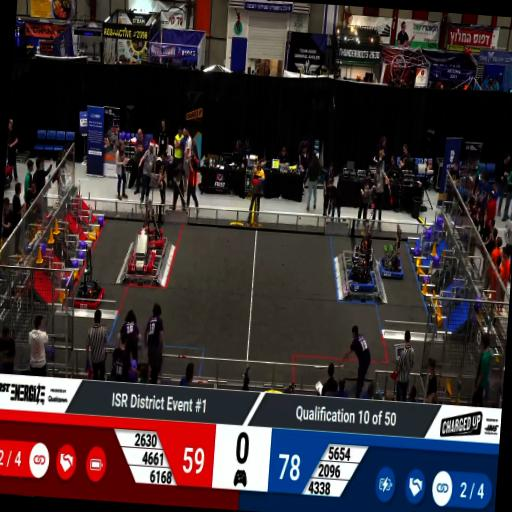robot: (71, 244, 109, 312), (377, 222, 408, 282), (136, 196, 168, 250), (128, 230, 158, 276), (351, 220, 377, 266), (348, 256, 378, 294)
